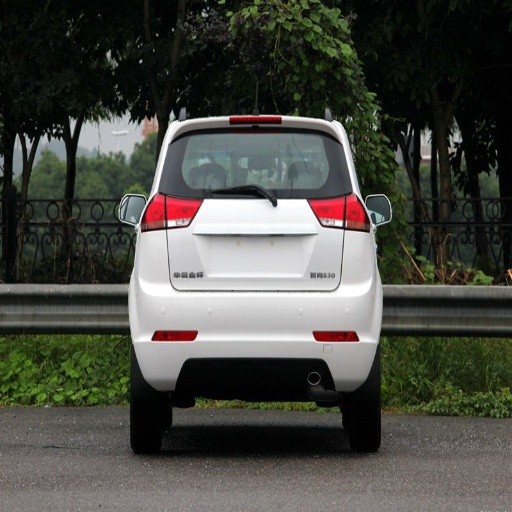back_bumper: (129, 230, 383, 400)
tailgate: (277, 257, 338, 289)
trunk: (144, 195, 349, 291)
